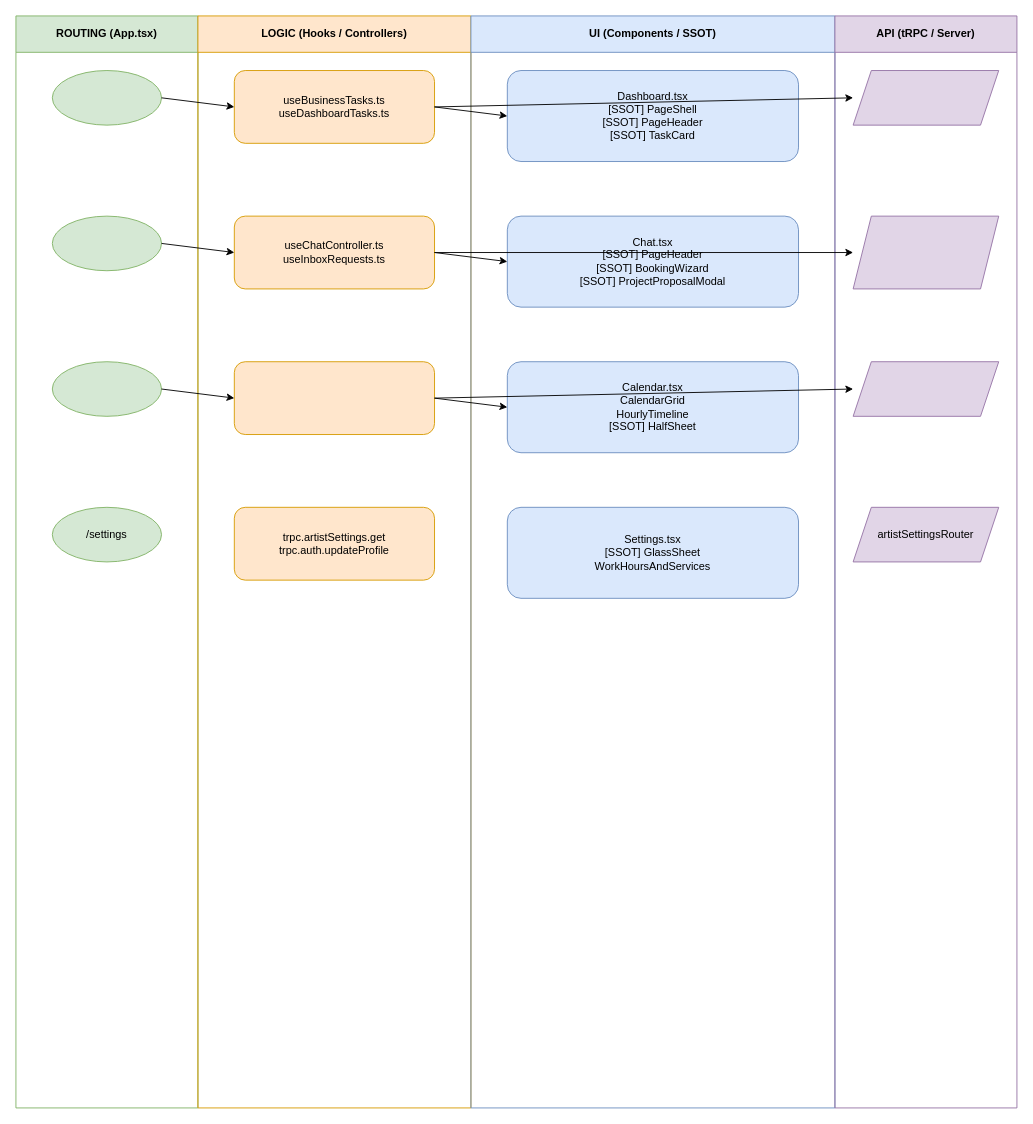
This 1033x1124 diagram has some shape labels left out. Here are the shapes that lost their labels. From the top down, the centre of each, then its label:
At point (106, 97): "/dashboard".
At point (925, 97): "dashboardTasksRouter".
At point (106, 243): "/chat/:id".
At point (925, 252): "conversationsRouter messagesRouter".
At point (106, 388): "/calendar".
At point (334, 398): "trpc.appointments.list useCalendarGestures".
At point (925, 388): "appointmentsRouter".
